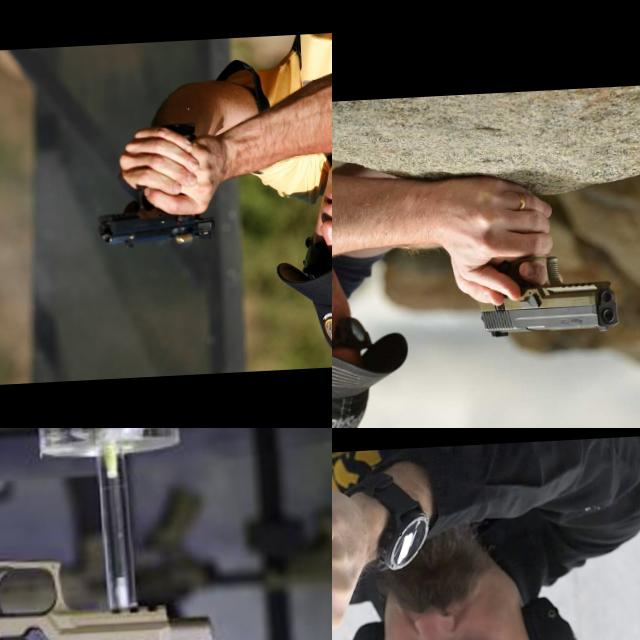handgun: (0, 428, 223, 640), (470, 248, 621, 342), (90, 176, 220, 252), (332, 569, 403, 640)
